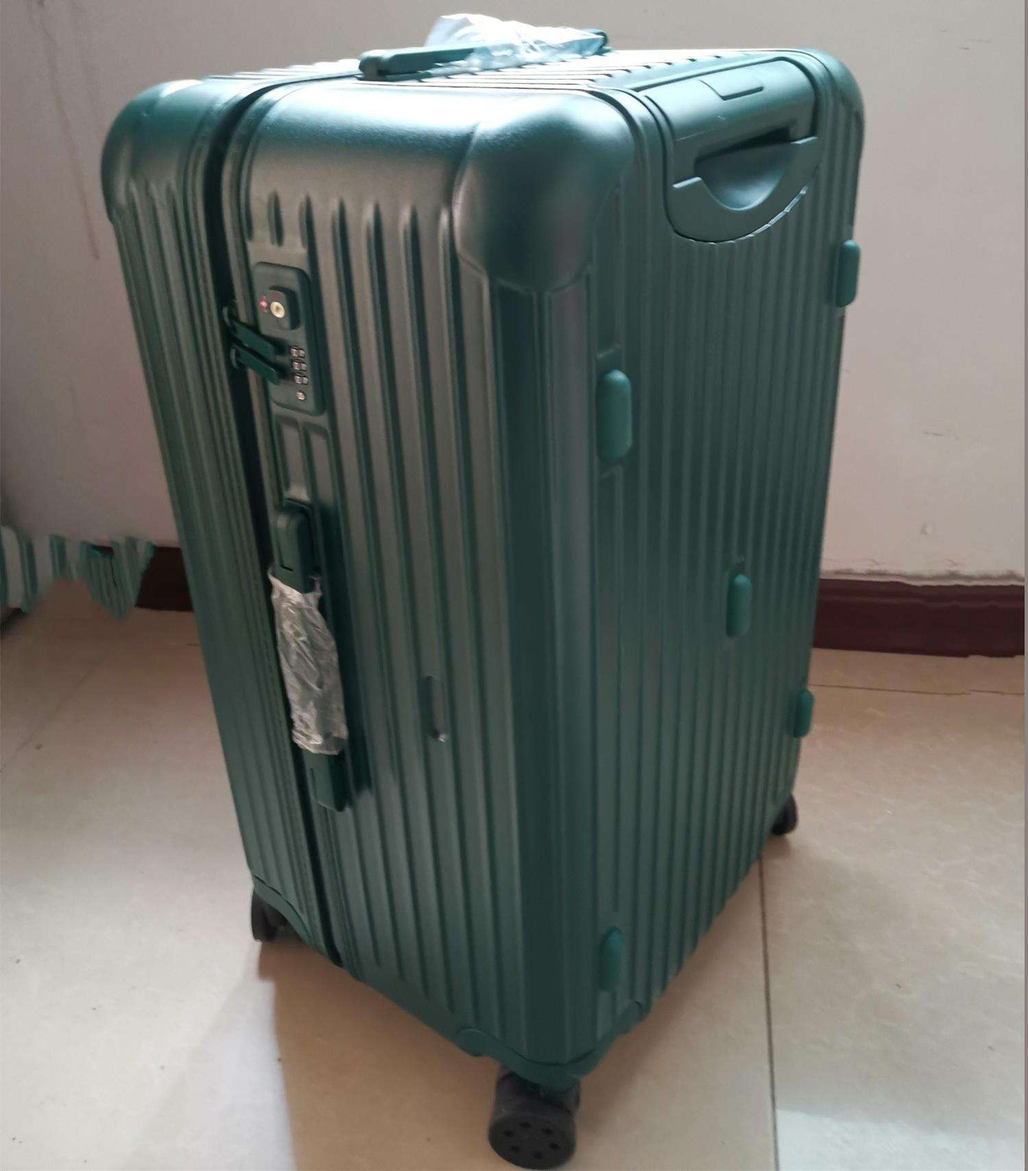box: (101, 47, 868, 1087)
handle: (261, 497, 353, 812), (355, 29, 614, 81)
lock: (224, 261, 326, 416)
wheel: (487, 1074, 580, 1171)
